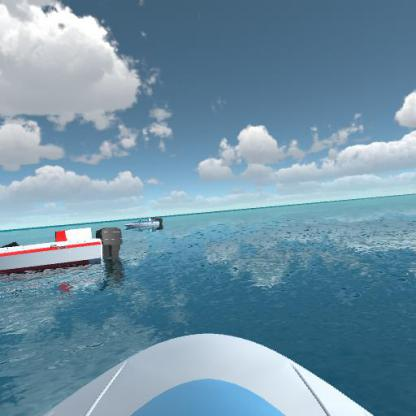usv1: (121, 214, 170, 234)
usv3: (2, 225, 122, 274)
